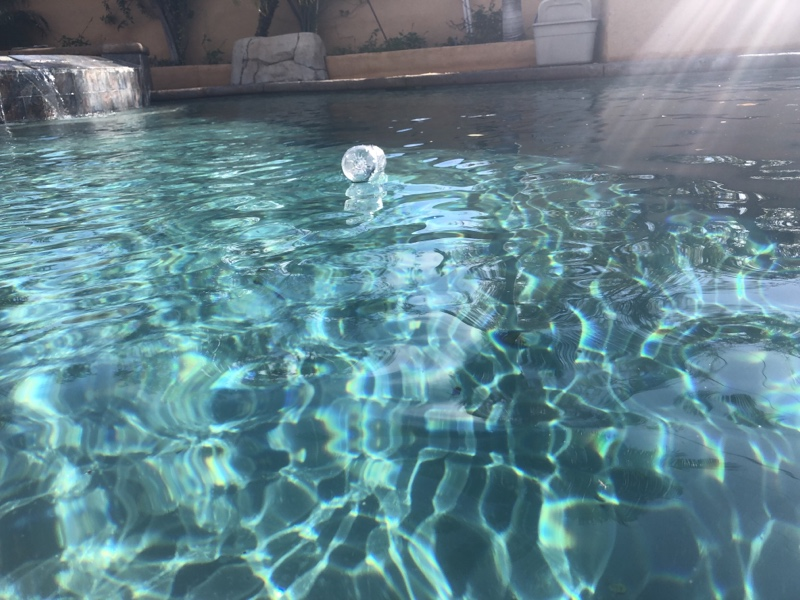Plastic Bottle: (338, 139, 388, 184)
